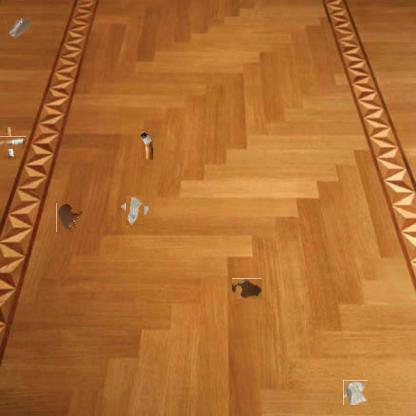dirty: (343, 380, 368, 405), (6, 15, 32, 39), (123, 198, 147, 222), (138, 129, 154, 162), (0, 130, 21, 154)
liquid: (56, 202, 83, 232), (232, 278, 262, 299)
